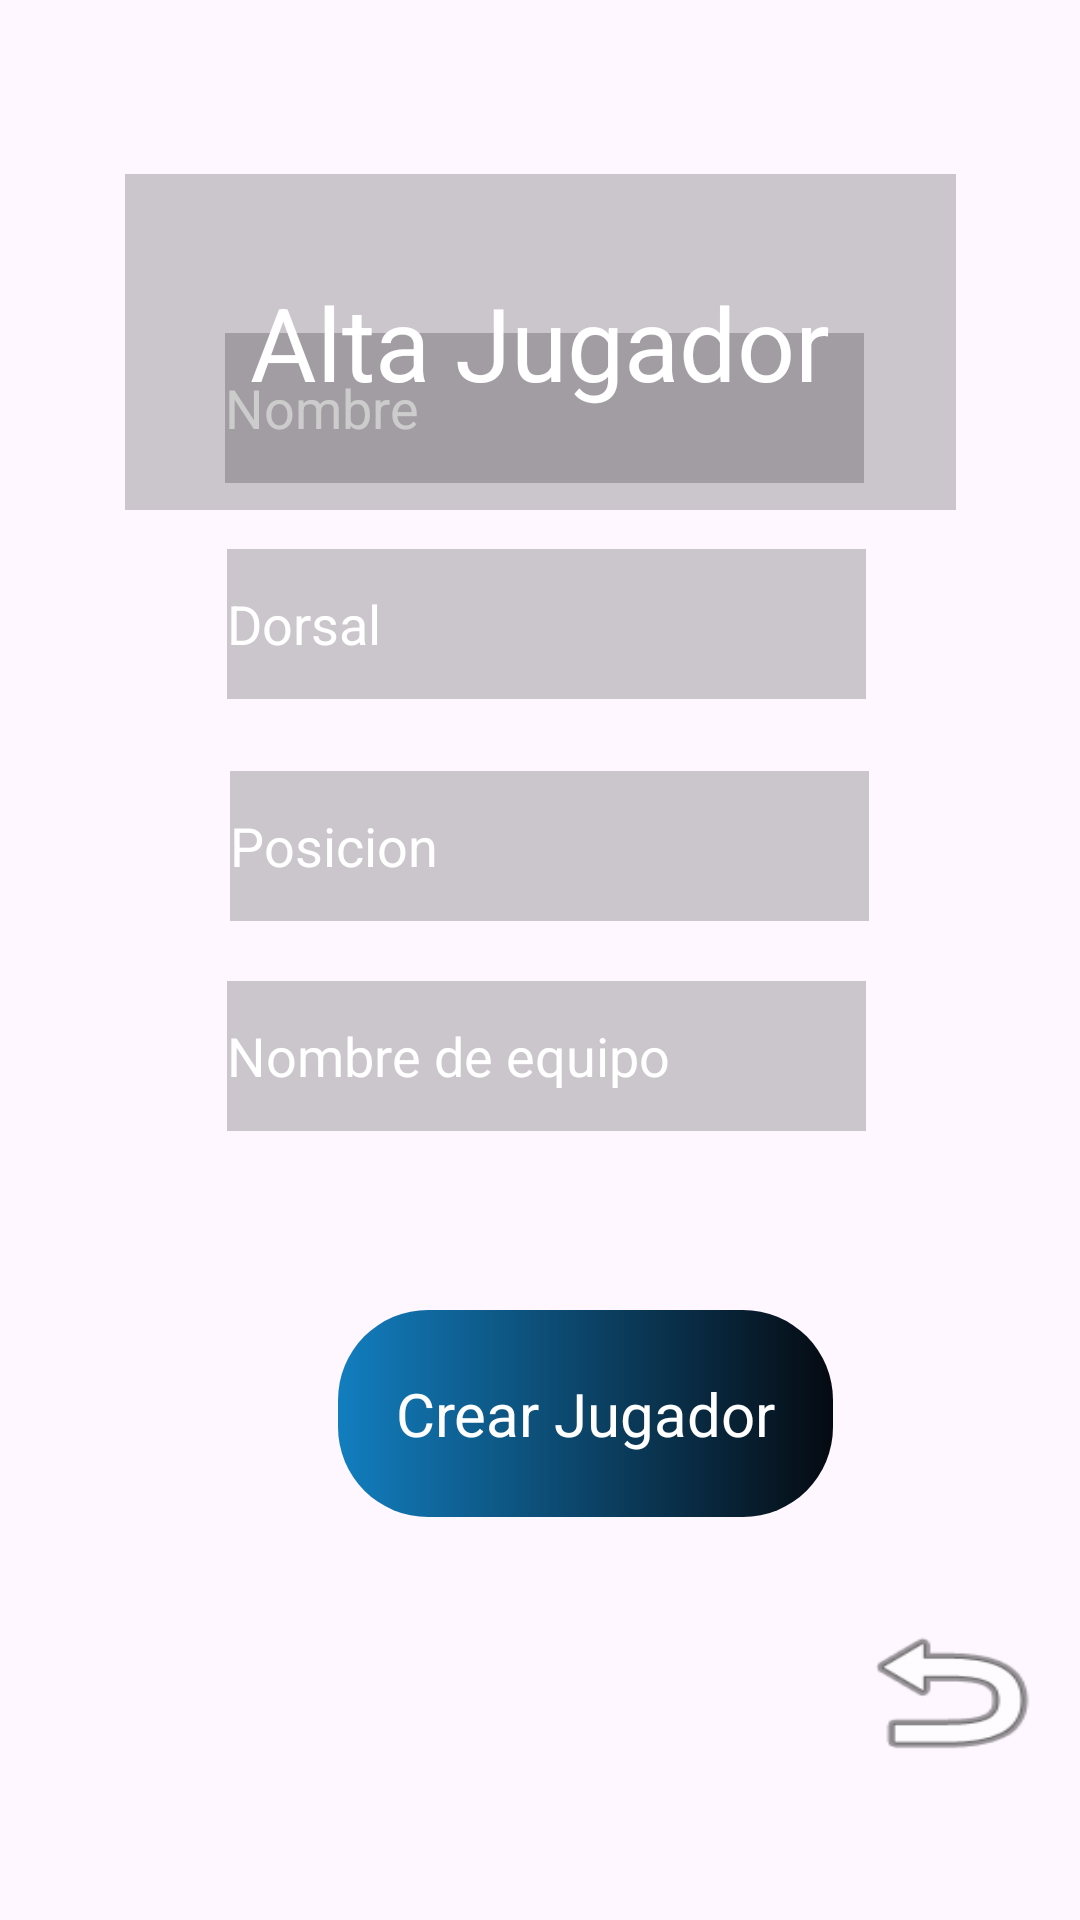

Icons on this 1080*1920 Android screen, each with its box as (x1, y1, x2, y2):
revert: (877, 1638, 1029, 1748)
